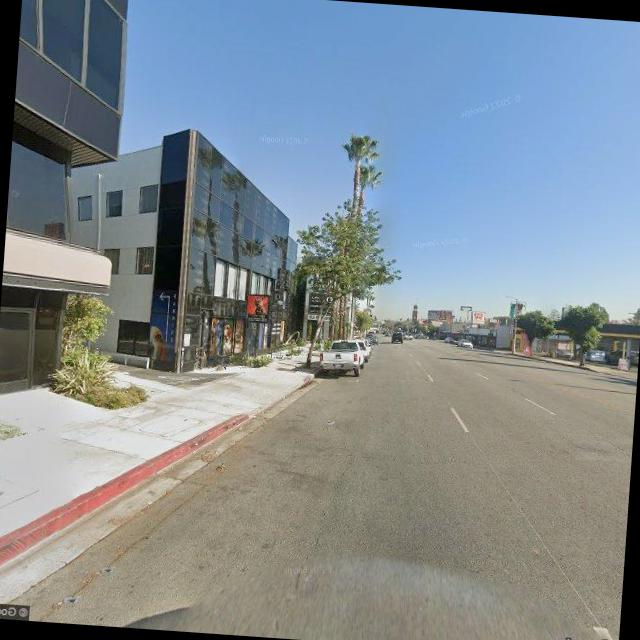pothole: (309, 436, 358, 553)
